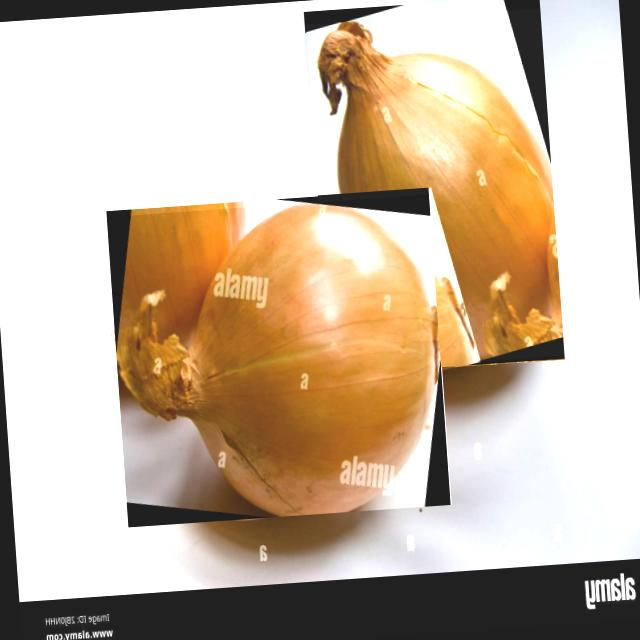healthy: (116, 203, 439, 516), (315, 21, 553, 362)
